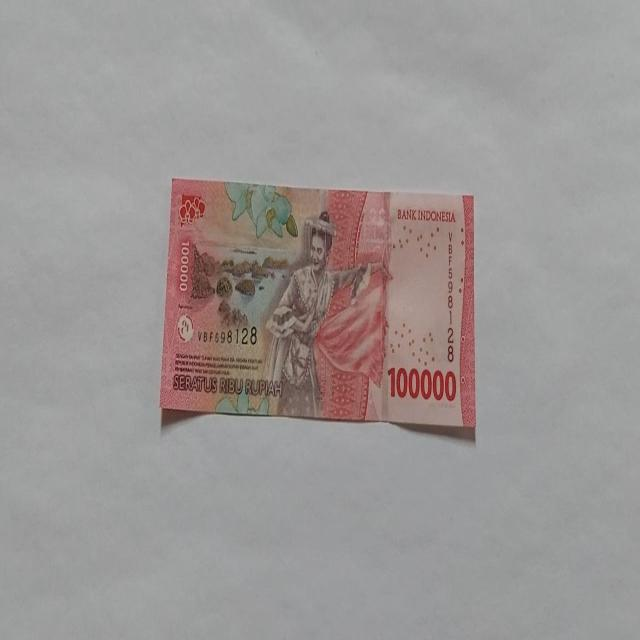Kertas: (158, 177, 476, 434), (387, 364, 457, 402)
